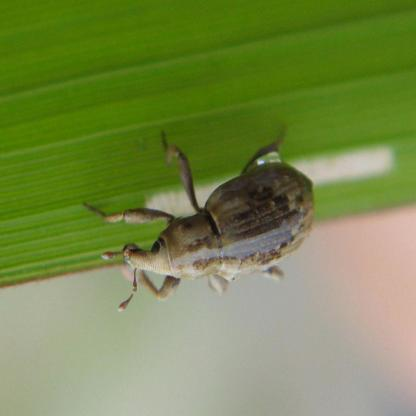rice-bug: (108, 132, 322, 306)
